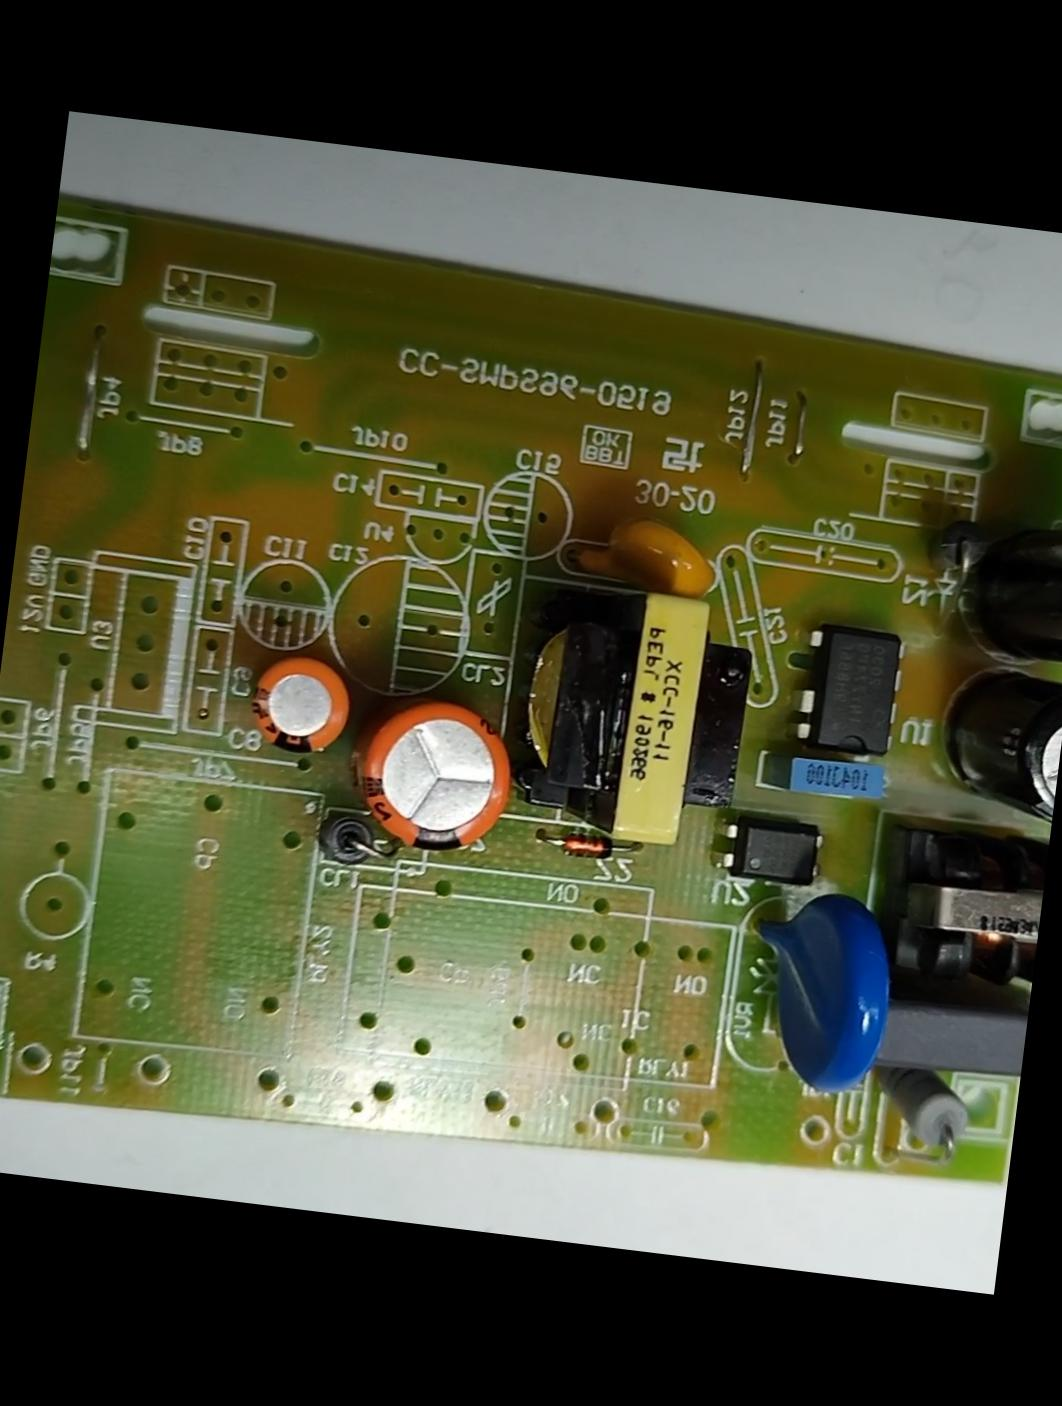Cap1: (338, 688, 522, 860)
Cap2: (239, 643, 357, 766)
Cap3: (933, 662, 1061, 834)
Cap4: (948, 505, 1061, 665)
MOSFET: (792, 621, 909, 764)
Mov: (730, 880, 900, 1104)
Resistor: (870, 1065, 976, 1155)
Transformer: (493, 566, 766, 856), (869, 823, 1047, 992)
